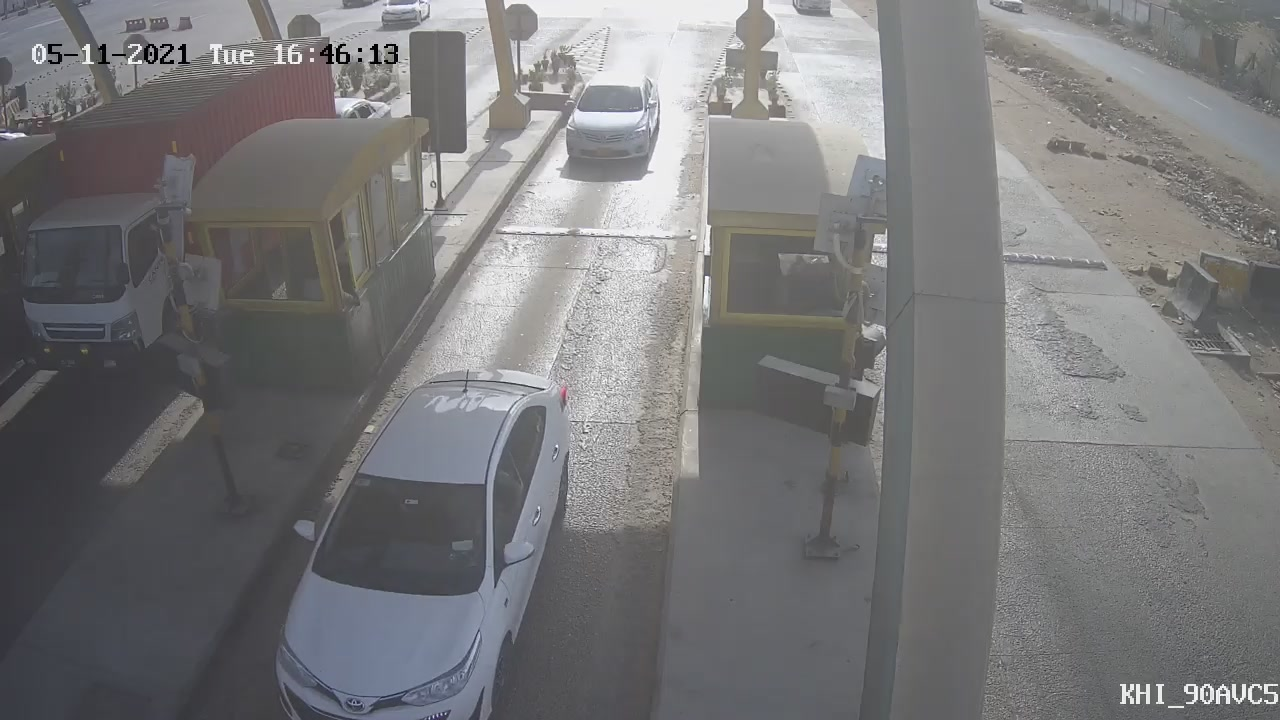F1: (552, 56, 682, 192)
